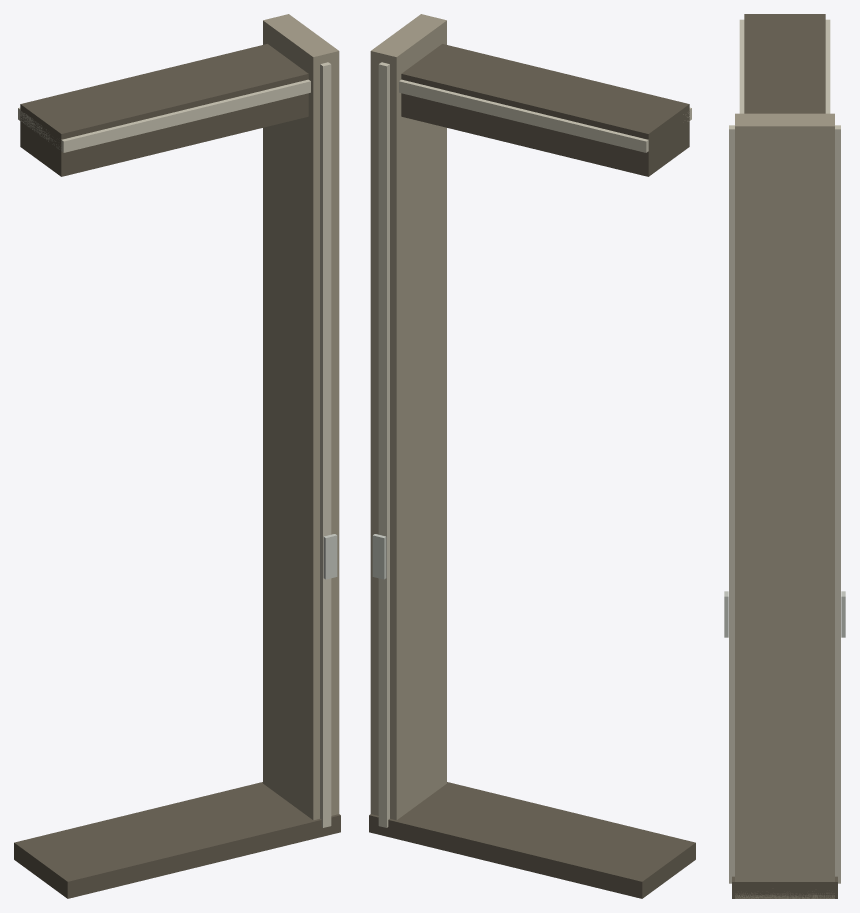
Rendered from CMU3DMedicalDoubleGlassDoorOpen.glb.
3 renders of one model, left to right at view 1: azimuth 30°, elevation 25°; view 2: azimuth 150°, elevation 25°; view 3: azimuth 270°, elevation 25°, orthographic.
Visible parts, largest first — view 1: outer door jamb, continuous top track, threshold, outer jamb highlight, top track lip, outer access reader; view 2: outer door jamb, continuous top track, threshold, outer jamb highlight, top track lip, outer access reader back; view 3: outer door jamb, outer jamb highlight (×2), continuous top track, threshold, top track lip.
Boxes of the visible parts, box(x1,y1,x2,y2) form: outer door jamb: box(263, 14, 339, 820); continuous top track: box(20, 44, 308, 176); threshold: box(14, 782, 340, 898); outer jamb highlight: box(320, 62, 331, 827); top track lip: box(18, 79, 310, 152); outer access reader: box(323, 534, 337, 579); outer door jamb: box(370, 14, 446, 820); continuous top track: box(401, 44, 689, 176); threshold: box(369, 782, 695, 898); outer jamb highlight: box(378, 62, 389, 827); top track lip: box(399, 79, 691, 152); outer access reader back: box(372, 534, 386, 579); outer door jamb: box(735, 113, 834, 898); outer jamb highlight (×2): box(729, 125, 840, 883); continuous top track: box(744, 14, 825, 113); threshold: box(732, 876, 837, 898); top track lip: box(739, 19, 830, 113).
Size of the model in its own units: 1 by 2.73 by 0.388.
